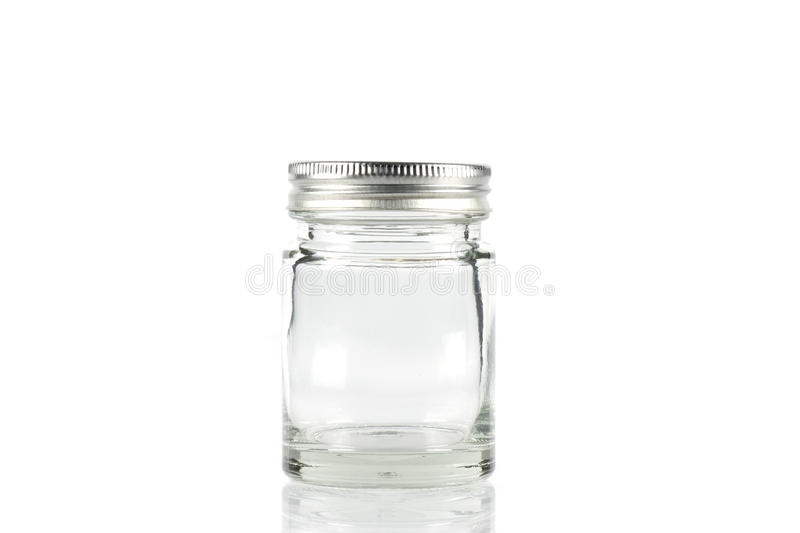emptybottle: (283, 164, 493, 486)
